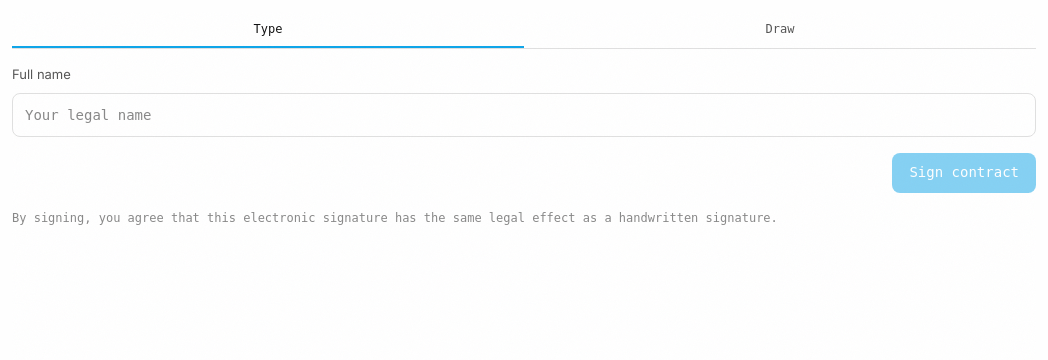
SignaturePad › shows canvas when draw tab selected
The width and height of the screenshot is (1048, 360).
Click the button "Draw": {"x": 780, "y": 30} [524,12,1036,48]
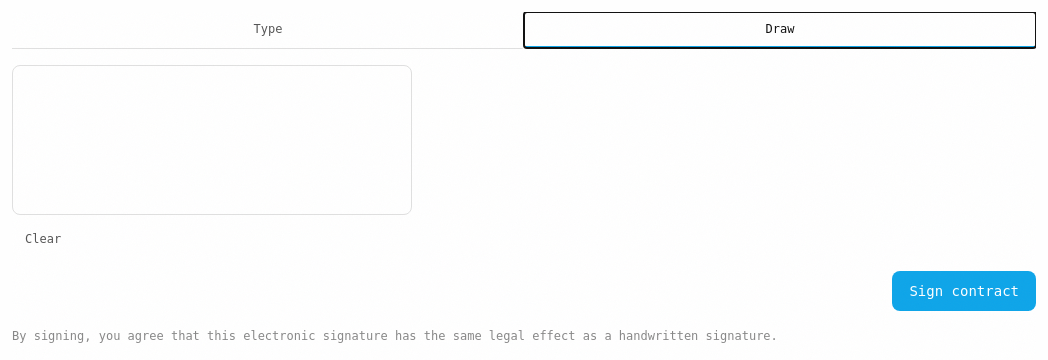
Check: the drawing named "Draw your signature" is shown, box [12,65,412,215]
